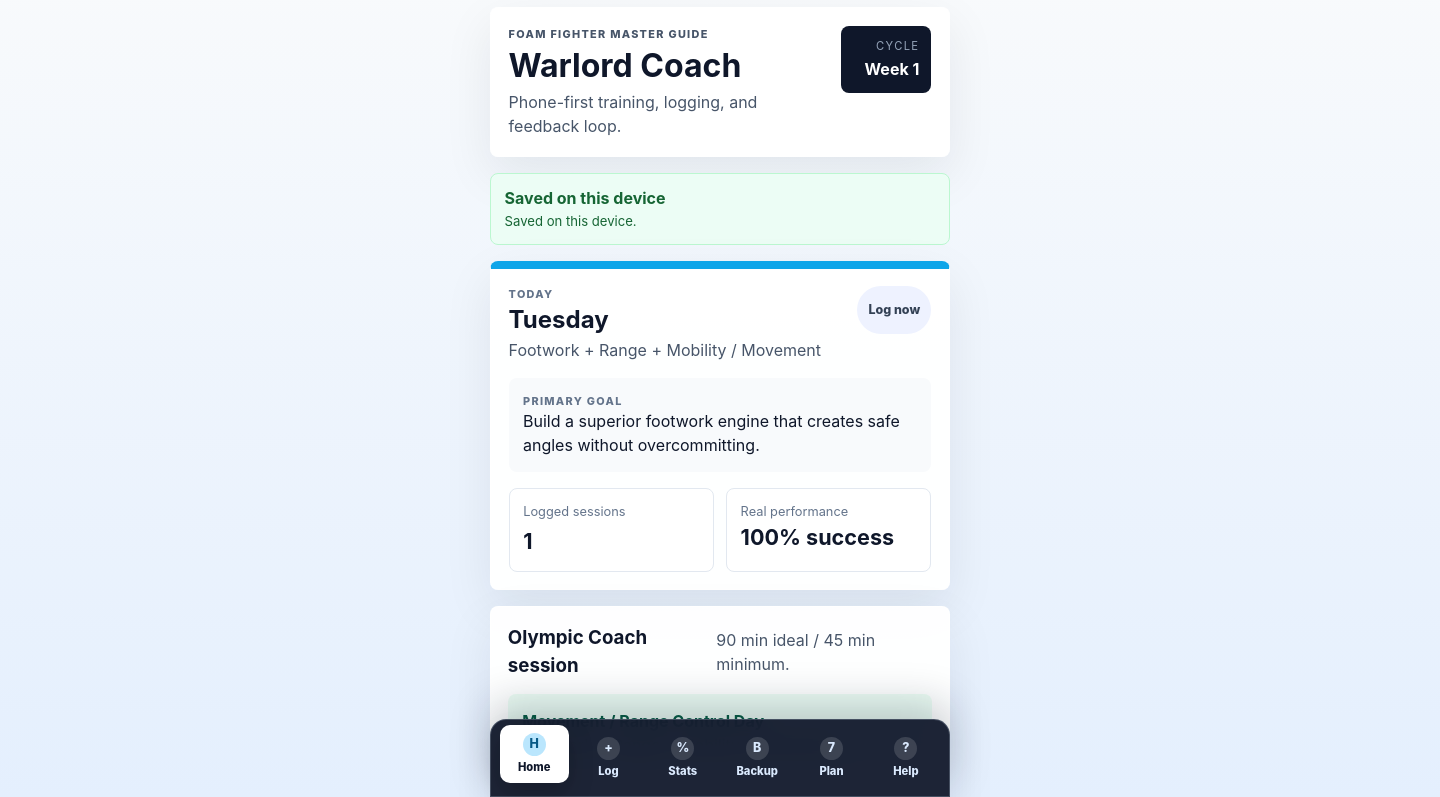
it: backup and restore UI flows › shows copyable JSON after export so mobile users have a fallback
Click the button "B Backup" at (757, 758), box x1=723 y1=729 x2=792 y2=787
(page scrolled)
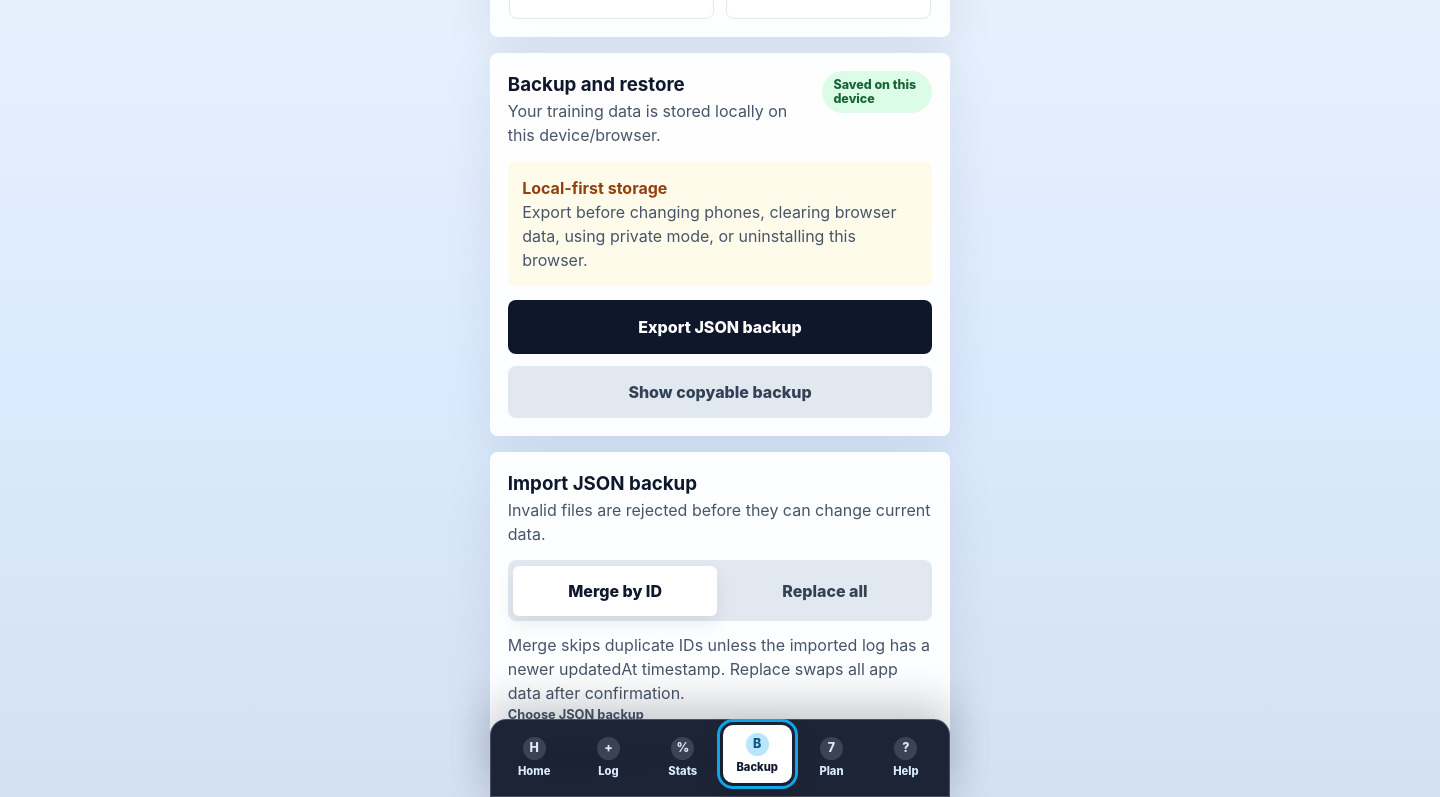
Click the button "Show copyable backup" at (720, 392), box x1=508 y1=366 x2=932 y2=418
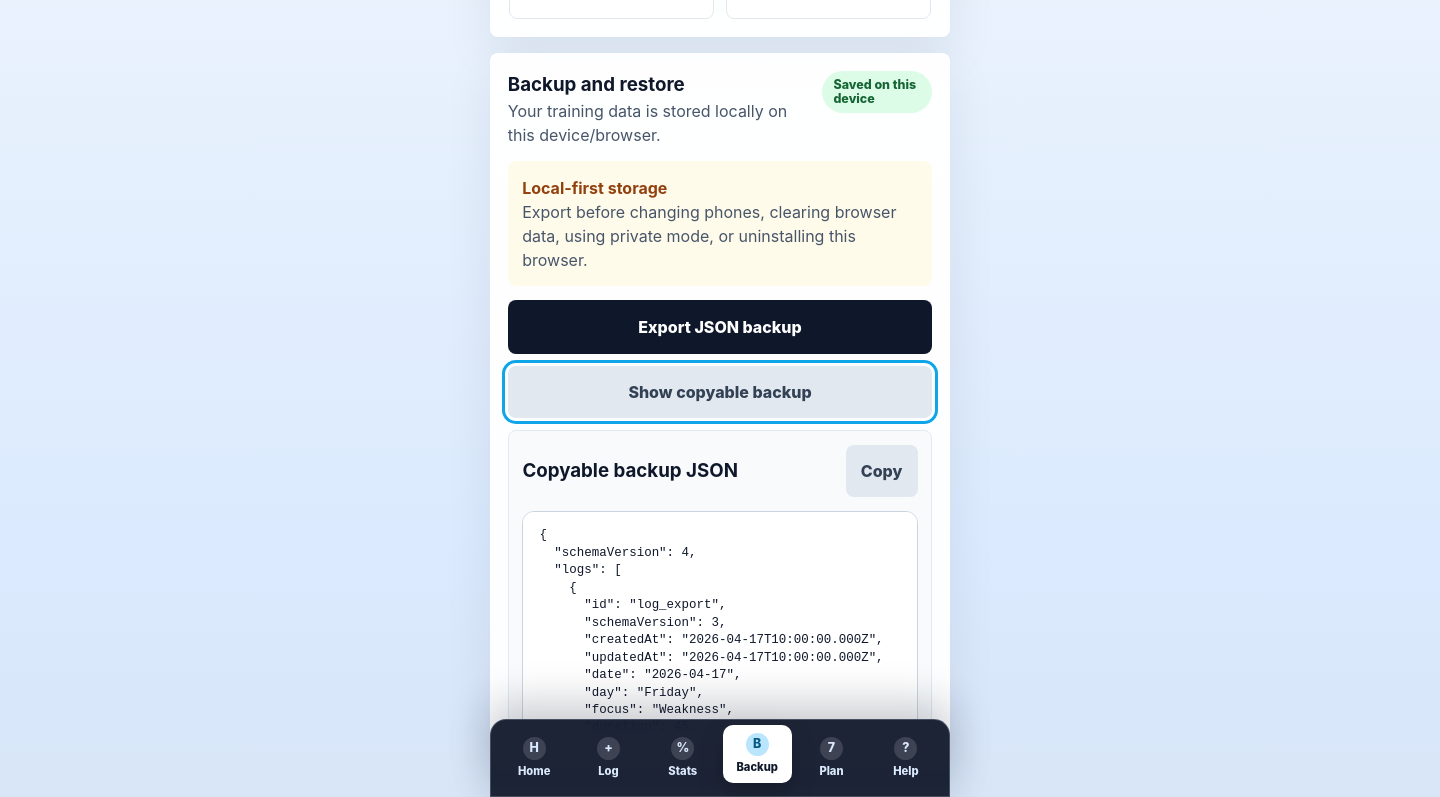
Now the text box named "Copyable backup JSON" is shown, box x1=522 y1=511 x2=918 y2=731
